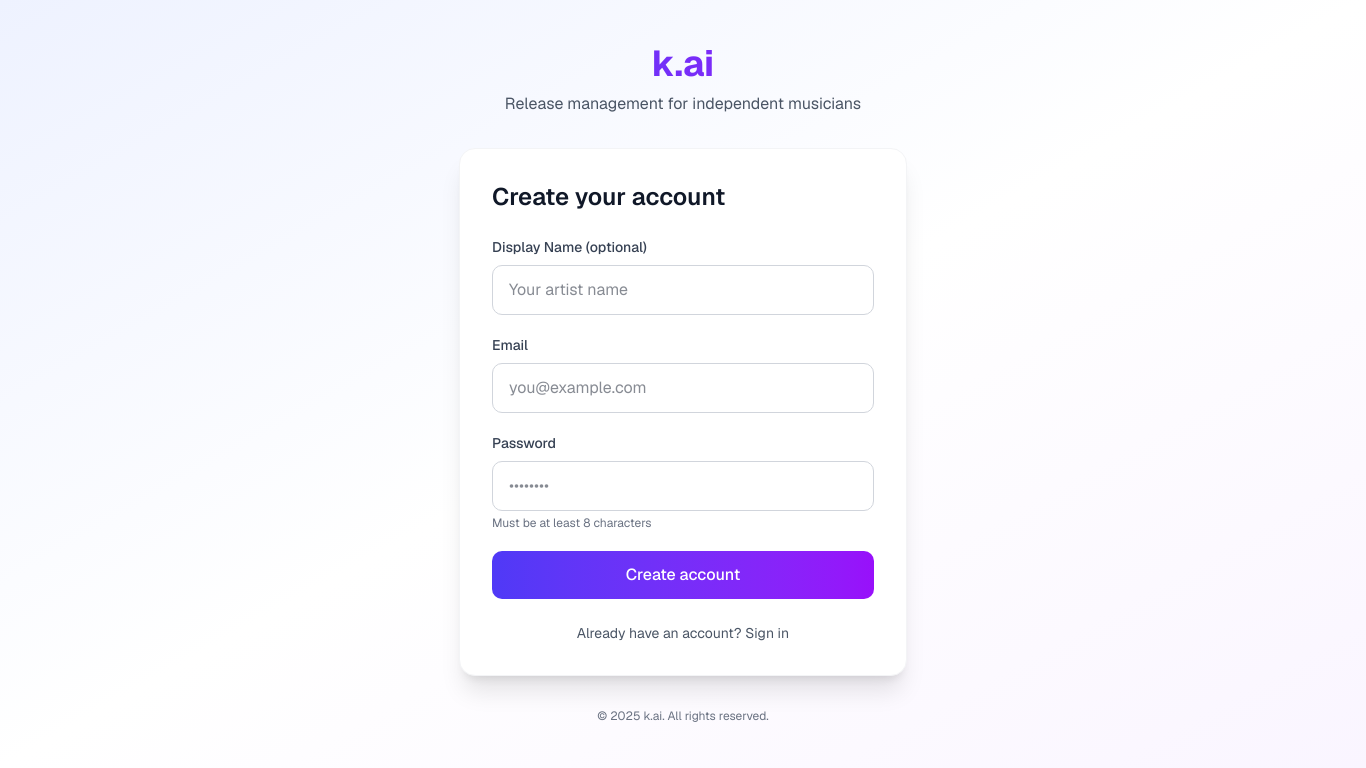
Test: SignupPage › displays generic error message when error is not an Error instance
The image size is (1366, 768).
In the field with placeholder "you@example.com": (683, 388) 492,363 -> 874,413, type "test@example.com"
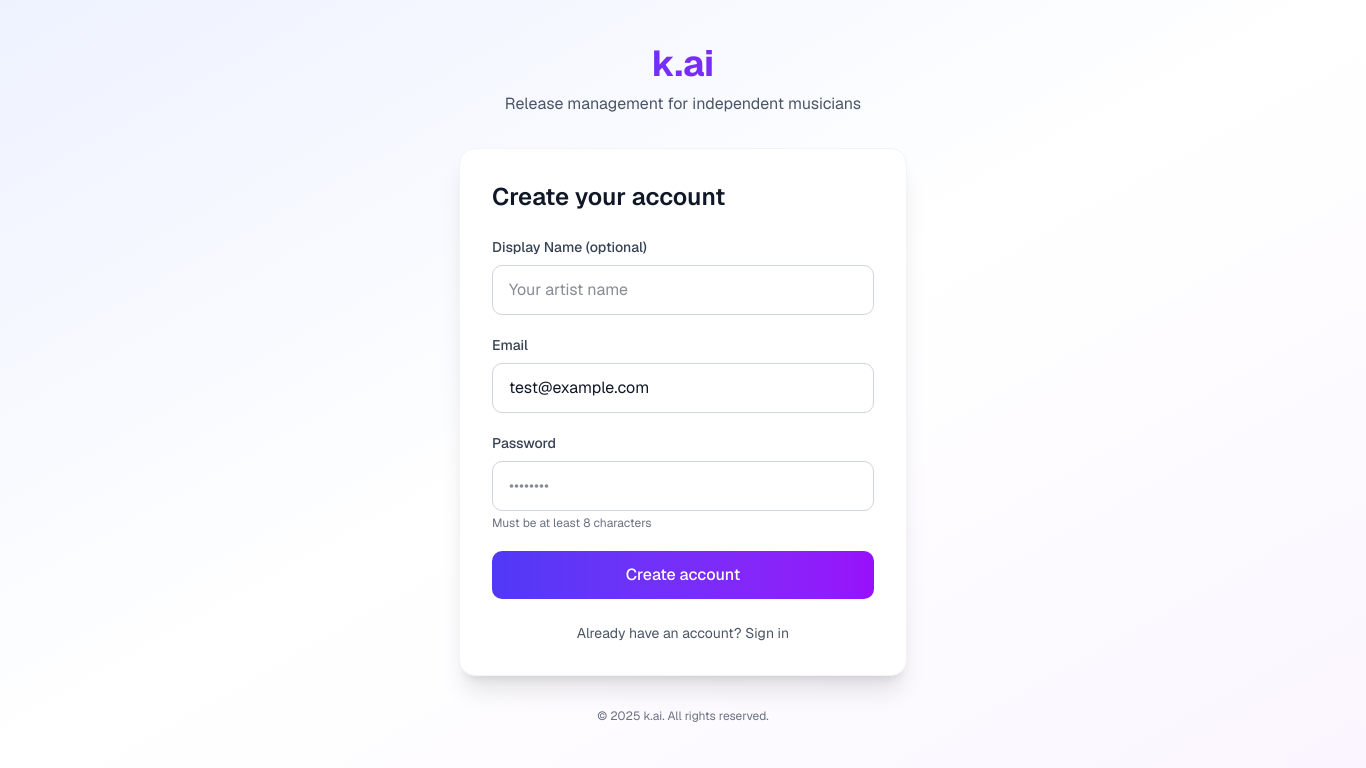
In the password field with placeholder "••••••••": (683, 486) 492,461 -> 874,511, type "password123"
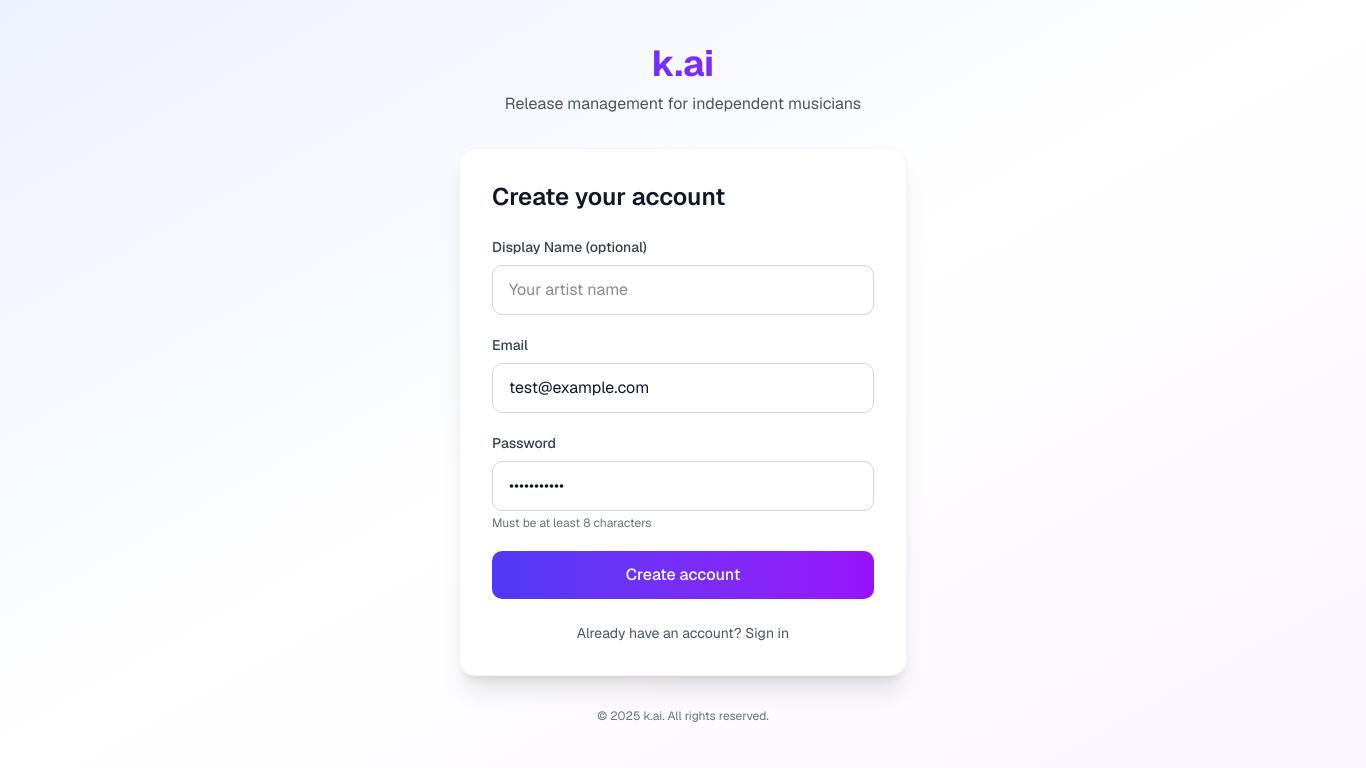
Click the button "Create account": click(683, 575) 492,551 -> 874,599
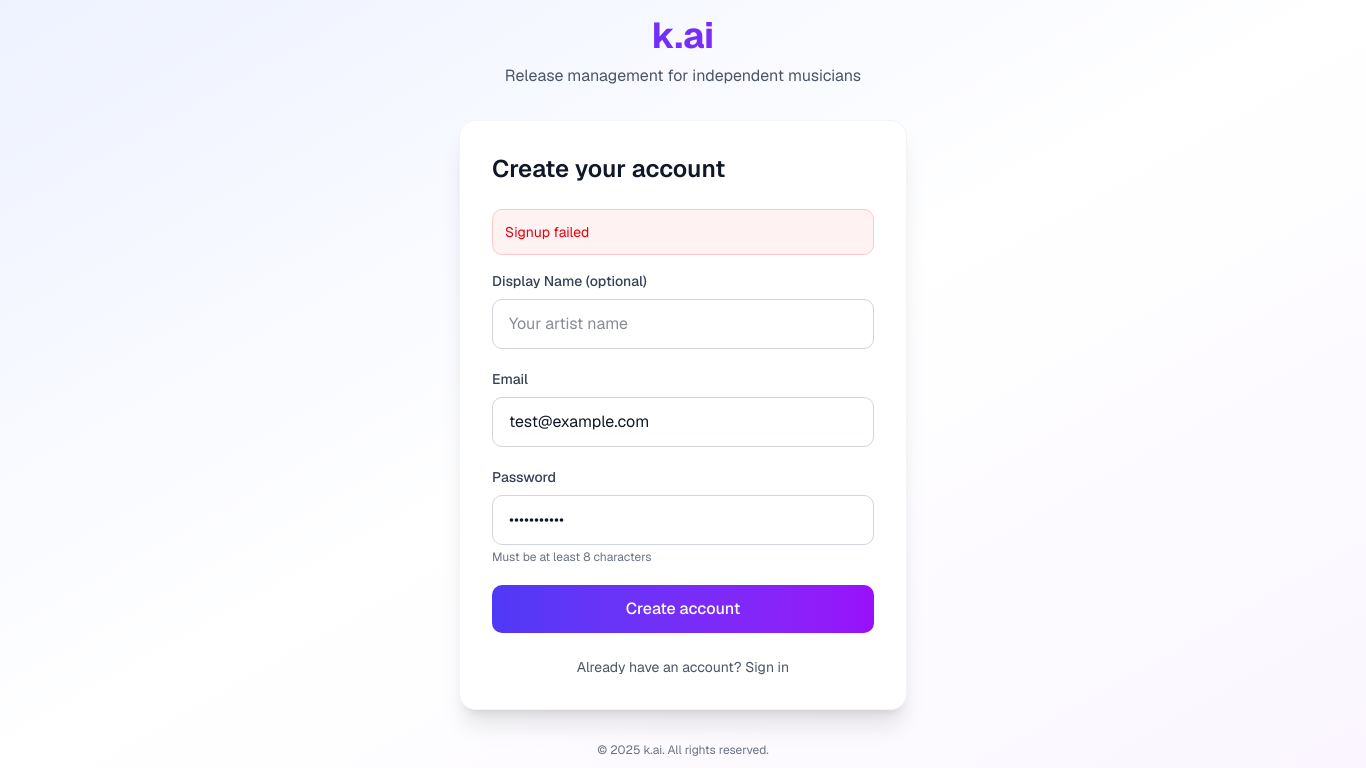
Now the text "Signup failed" is shown, box 492,209 -> 874,255
